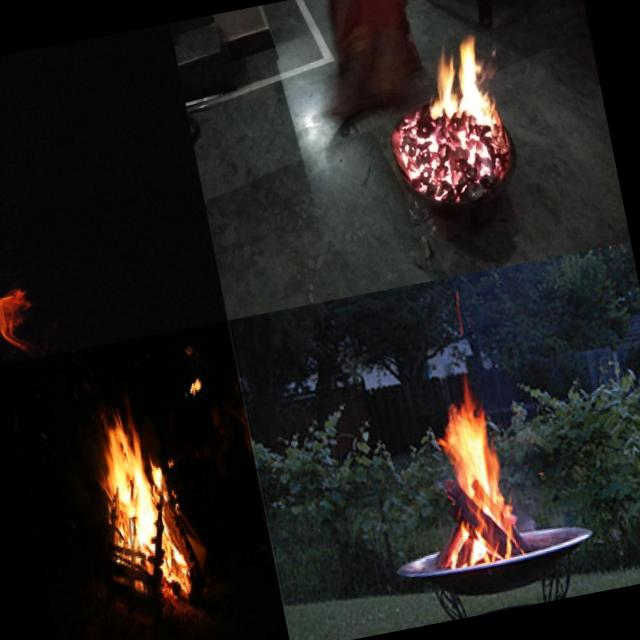fire: (0, 49, 93, 364), (82, 396, 206, 600), (412, 19, 520, 210), (422, 384, 523, 562), (387, 101, 442, 202)
